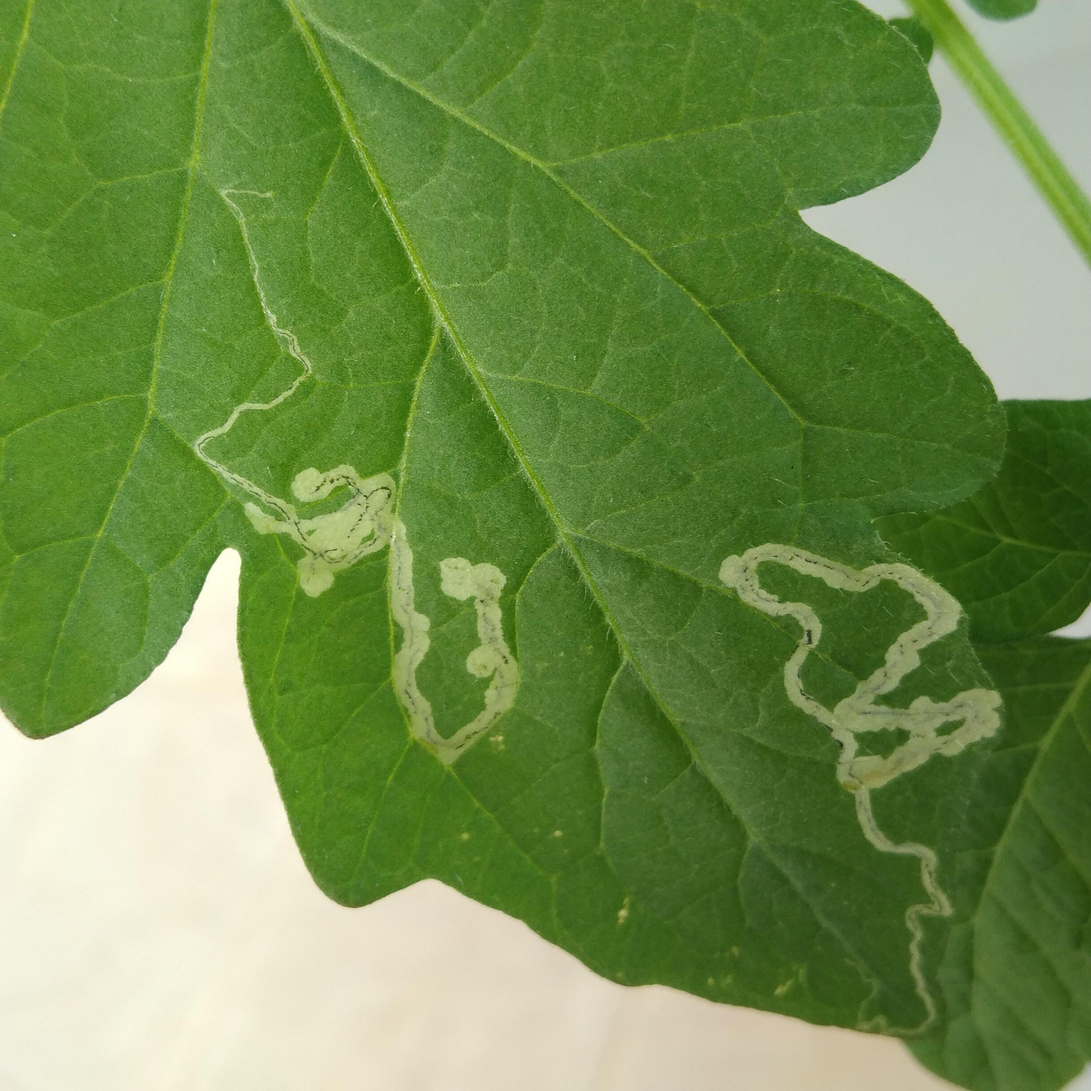Leaf_Miner: (38, 0, 1091, 1018)
